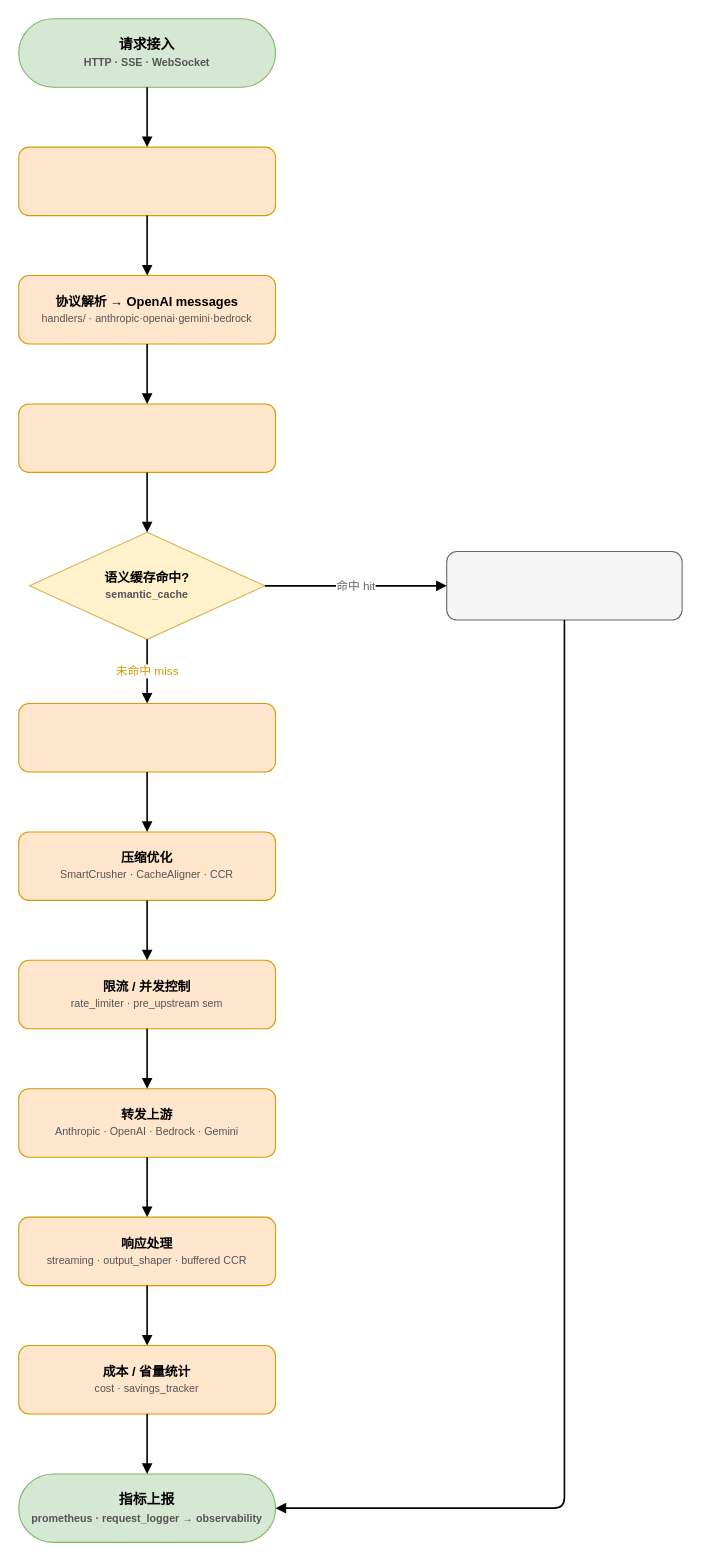
Image size: 701x1561. Some labels were removed from this diagram. Here are the shapes that lost their labels. From the top down, the centre of each, then its label:
At pixel 147 181: "鉴权 classify_auth_mode · auth_policy".
At pixel 147 437: "模型路由 model_router · provider / upstream".
At pixel 564 585: "返回缓存响应 semantic cache hit".
At pixel 147 737: "压缩决策 compression_decision · memory_decision".
